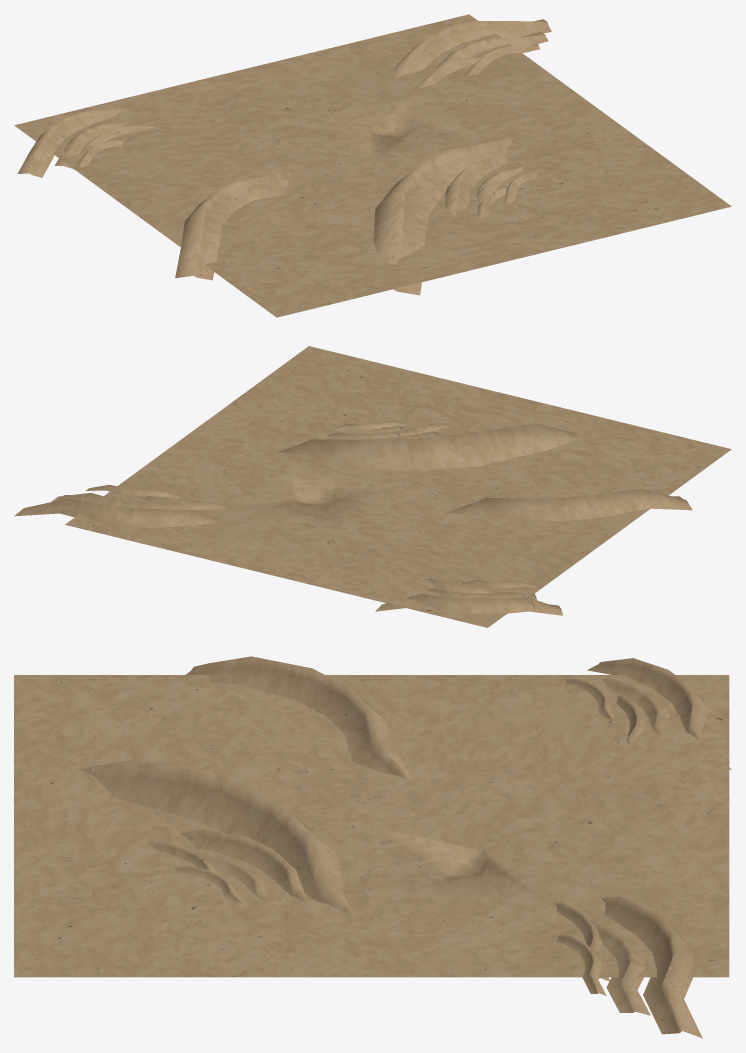
File: Dunes_Segment_2.fbx
The picture shows the model from 3 angles, top to bottom: view 1: azimuth 30°, elevation 25°; view 2: azimuth 150°, elevation 25°; view 3: azimuth 270°, elevation 25°; orthographic projection. The views are drawn at different scales.
Visible parts, largest first — view 1: Dunes_Segment_2; view 2: Dunes_Segment_2; view 3: Dunes_Segment_2.
Part boxes in pixels (x1,y1,x2,y2): Dunes_Segment_2: (14, 14, 731, 317); Dunes_Segment_2: (14, 346, 731, 627); Dunes_Segment_2: (14, 656, 731, 1038).
Size of the model in its own units: 12266 by 999 by 10035.
